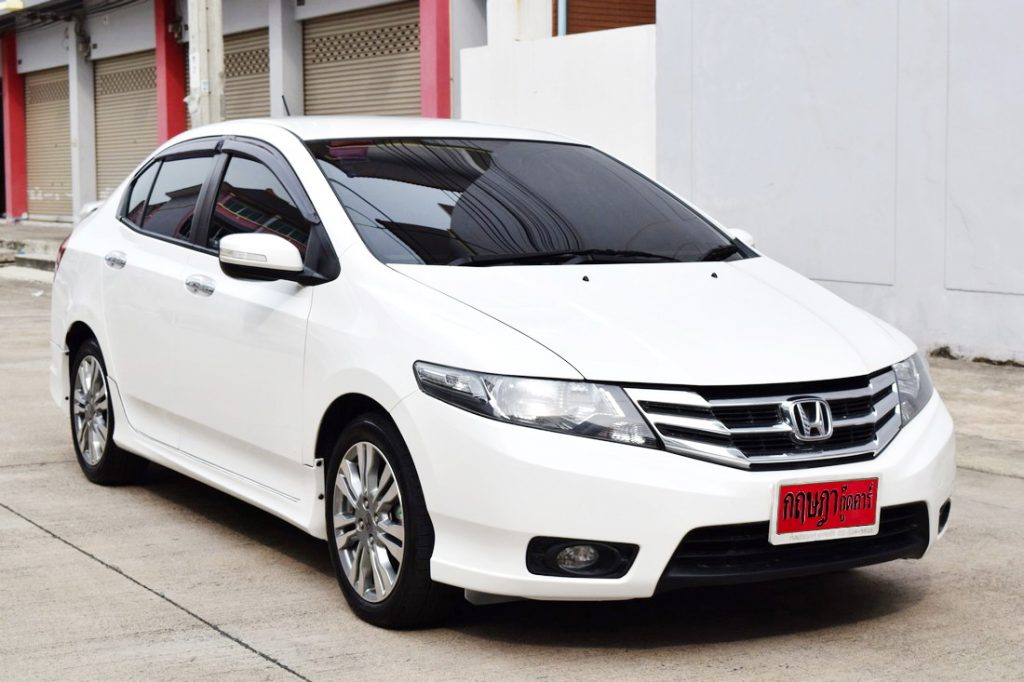sedan: (45, 108, 964, 628)
